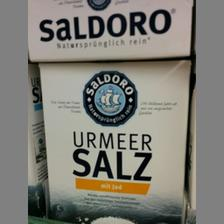Gewuerze: (38, 58, 190, 222)
